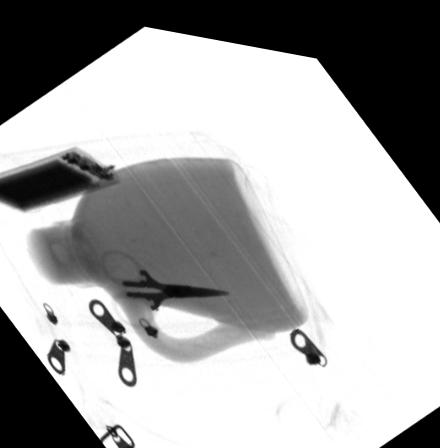Powerbank: (0, 144, 120, 212)
Scissors: (98, 242, 235, 326)
